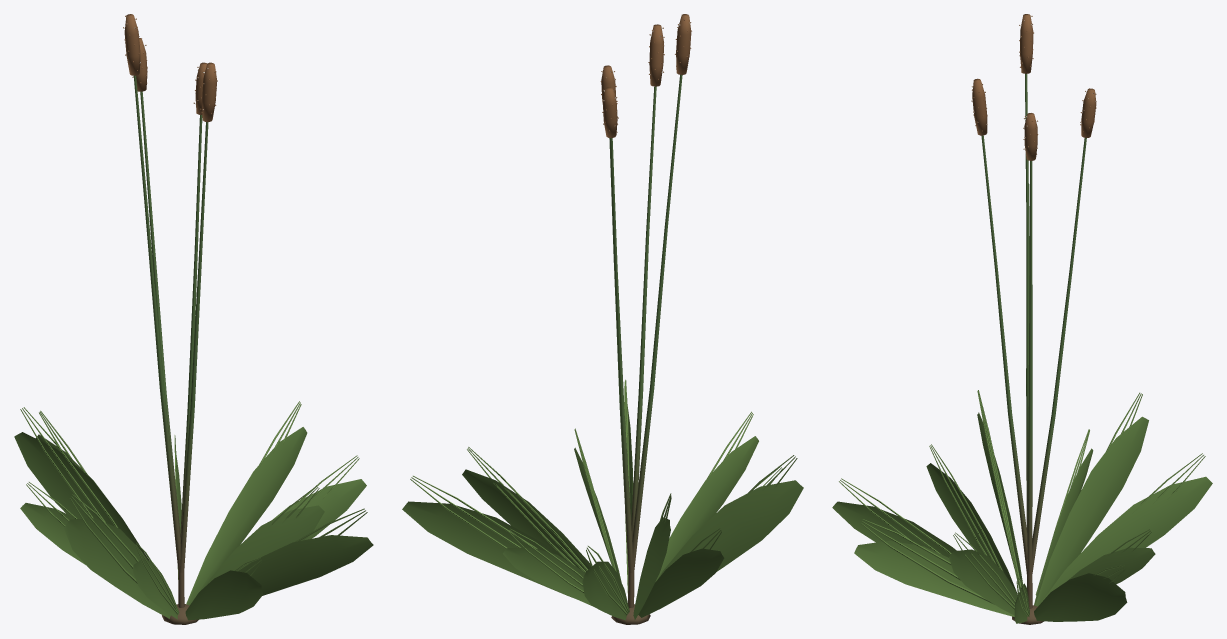
File: RibwortPlantain.glb
3 renders of one model, left to right at view 1: azimuth 30°, elevation 25°; view 2: azimuth 150°, elevation 25°; view 3: azimuth 270°, elevation 25°, orthographic. The views are drawn at different scales.
Parts seen in each view (by area): view 1: Plant; view 2: Plant; view 3: Plant.
Boxes of the visible parts, x1,y1,x2,y2 form: Plant: (14, 14, 373, 624); Plant: (402, 14, 803, 624); Plant: (832, 14, 1212, 624).
Bounding box in the file's own units: 0.2693 × 0.4895 × 0.2924.
